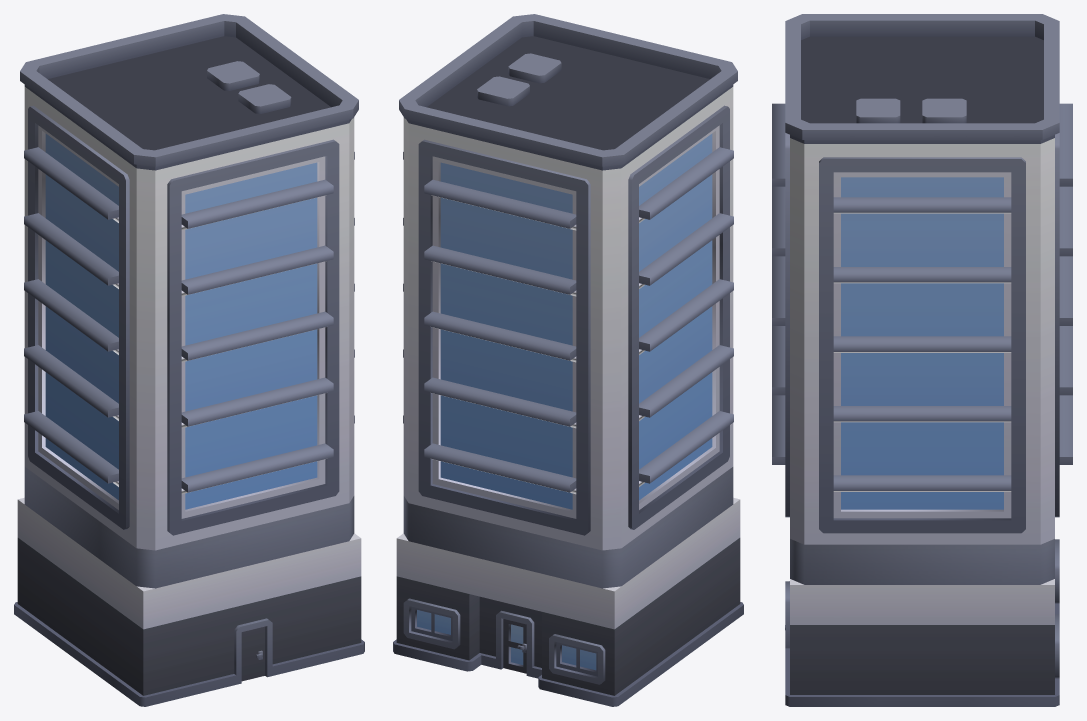
File: building-skyscraper-a.glb
The picture shows the model from 3 angles, left to right: view 1: azimuth 30°, elevation 25°; view 2: azimuth 150°, elevation 25°; view 3: azimuth 270°, elevation 25°; orthographic projection. The views are drawn at different scales.
Visible parts, largest first — view 1: building-skyscraper-a; view 2: building-skyscraper-a; view 3: building-skyscraper-a.
Boxes of the visible parts, x1=… form: building-skyscraper-a: x1=14, y1=14, x2=364, y2=706; building-skyscraper-a: x1=393, y1=14, x2=743, y2=706; building-skyscraper-a: x1=772, y1=14, x2=1072, y2=706.
Size of the model in its own units: 1.36 by 2.88 by 1.36.
Materials: 1 (1 with a texture image).
